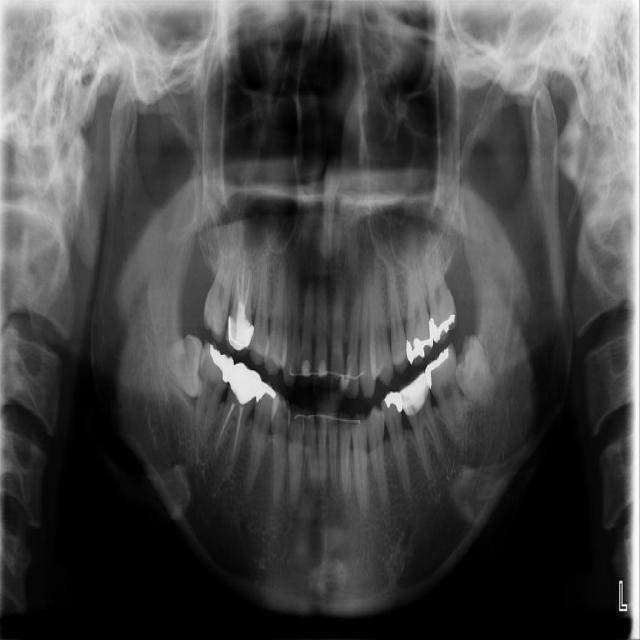Crown: (228, 362, 262, 414), (225, 316, 254, 356)
Filling: (399, 369, 430, 423), (404, 319, 435, 363), (425, 347, 450, 389), (208, 345, 234, 385), (431, 312, 458, 343), (254, 383, 276, 404), (385, 392, 402, 413)
Root Canal Treatment: (228, 406, 244, 464), (216, 405, 234, 451), (242, 256, 246, 294), (246, 266, 250, 302), (237, 263, 241, 298)
impacted tooth: (455, 334, 503, 404), (160, 337, 201, 398)
